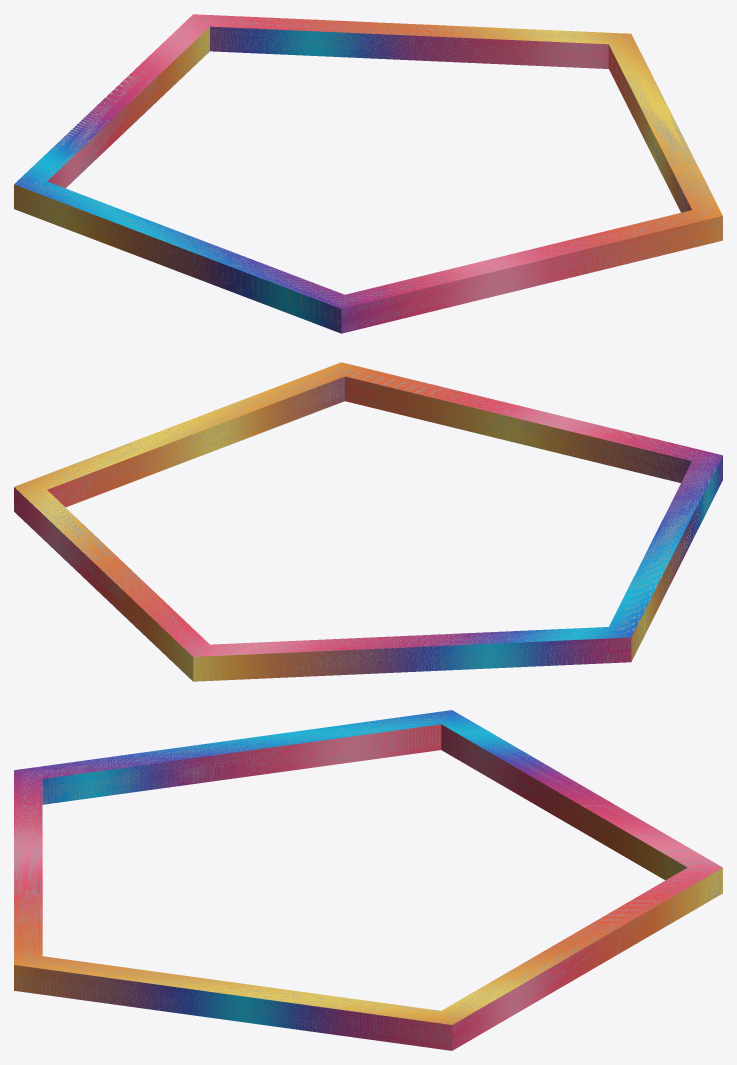
Rendered from fh-pentagon-1.fbx.
3 renders of one model, top to bottom at view 1: azimuth 30°, elevation 25°; view 2: azimuth 150°, elevation 25°; view 3: azimuth 270°, elevation 25°, orthographic. The views are drawn at different scales.
Visible parts, largest first — view 1: pentagon_6_1; view 2: pentagon_6_1; view 3: pentagon_6_1.
Part boxes in pixels (box(x1,y1,x2,y2)): pentagon_6_1: box(14, 14, 722, 333); pentagon_6_1: box(14, 362, 722, 681); pentagon_6_1: box(14, 710, 722, 1050).
Size of the model in its own units: 783 by 30 by 745.
